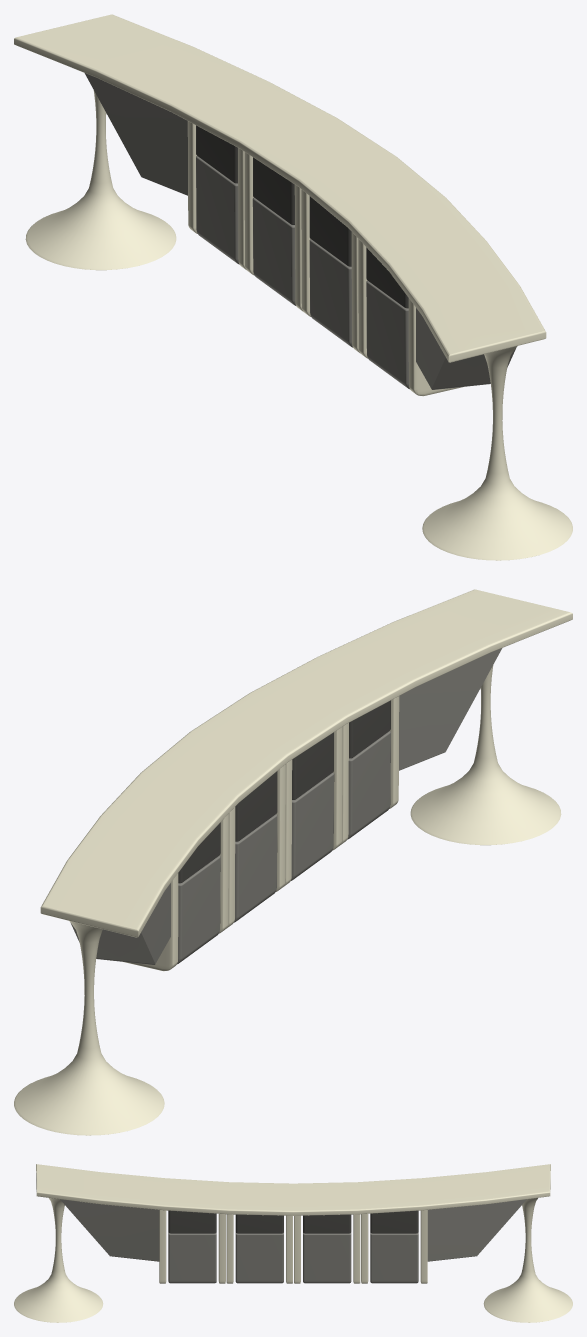
File: CurvedTableRear.fbx
The picture shows the model from 3 angles, top to bottom: view 1: azimuth 30°, elevation 25°; view 2: azimuth 150°, elevation 25°; view 3: azimuth 270°, elevation 25°; orthographic projection. The views are drawn at different scales.
Parts seen in each view (by area): view 1: CurvedRearTableTop, RearTableBase, CurvedRearSecondaryTop, CurvedTableRear_Sides, LowerDrawer1, LowerDrawer, LowerDrawer2, LowerDrawer3, UpperDrawer2, UpperDrawer3, UpperDrawer1, UpperDrawer; view 2: CurvedRearTableTop, RearTableBase, CurvedRearSecondaryTop, CurvedTableRear_Sides, LowerDrawer, LowerDrawer1, LowerDrawer3, LowerDrawer2, UpperDrawer3, UpperDrawer2, UpperDrawer, UpperDrawer1; view 3: CurvedRearTableTop, CurvedRearSecondaryTop, RearTableBase, CurvedTableRear_Sides, LowerDrawer, LowerDrawer1, LowerDrawer2, LowerDrawer3, UpperDrawer, UpperDrawer1, UpperDrawer2, UpperDrawer3.
Part boxes in pixels (x1=…): CurvedRearTableTop: x1=14, y1=14, x2=546, y2=362; RearTableBase: x1=25, y1=90, x2=572, y2=560; CurvedRearSecondaryTop: x1=84, y1=73, x2=516, y2=389; CurvedTableRear_Sides: x1=187, y1=121, x2=464, y2=396; LowerDrawer1: x1=196, y1=156, x2=239, y2=264; LowerDrawer: x1=366, y1=280, x2=409, y2=389; LowerDrawer2: x1=252, y1=197, x2=295, y2=305; LowerDrawer3: x1=309, y1=239, x2=352, y2=347; UpperDrawer2: x1=253, y1=157, x2=294, y2=224; UpperDrawer3: x1=309, y1=196, x2=351, y2=266; UpperDrawer1: x1=196, y1=125, x2=237, y2=183; UpperDrawer: x1=366, y1=247, x2=408, y2=308; CurvedRearTableTop: x1=40, y1=589, x2=572, y2=937; RearTableBase: x1=14, y1=665, x2=561, y2=1135; CurvedRearSecondaryTop: x1=70, y1=648, x2=502, y2=964; CurvedTableRear_Sides: x1=122, y1=696, x2=399, y2=971; LowerDrawer: x1=347, y1=731, x2=390, y2=839; LowerDrawer1: x1=177, y1=855, x2=220, y2=964; LowerDrawer3: x1=291, y1=772, x2=334, y2=880; LowerDrawer2: x1=234, y1=814, x2=277, y2=922; UpperDrawer3: x1=292, y1=732, x2=333, y2=799; UpperDrawer2: x1=235, y1=771, x2=277, y2=841; UpperDrawer: x1=349, y1=700, x2=390, y2=758; UpperDrawer1: x1=178, y1=822, x2=220, y2=883; CurvedRearTableTop: x1=36, y1=1164, x2=550, y2=1215; CurvedRearSecondaryTop: x1=60, y1=1199, x2=526, y2=1261; RearTableBase: x1=14, y1=1198, x2=572, y2=1322; CurvedTableRear_Sides: x1=159, y1=1210, x2=427, y2=1283; LowerDrawer: x1=168, y1=1232, x2=216, y2=1283; LowerDrawer1: x1=370, y1=1232, x2=418, y2=1283; LowerDrawer2: x1=303, y1=1232, x2=351, y2=1283; LowerDrawer3: x1=235, y1=1232, x2=283, y2=1283; UpperDrawer: x1=168, y1=1210, x2=216, y2=1233; UpperDrawer1: x1=370, y1=1210, x2=418, y2=1233; UpperDrawer2: x1=303, y1=1214, x2=351, y2=1233; UpperDrawer3: x1=235, y1=1214, x2=283, y2=1233.
Size of the model in its own units: 3.54 by 4.16 by 17.44.
